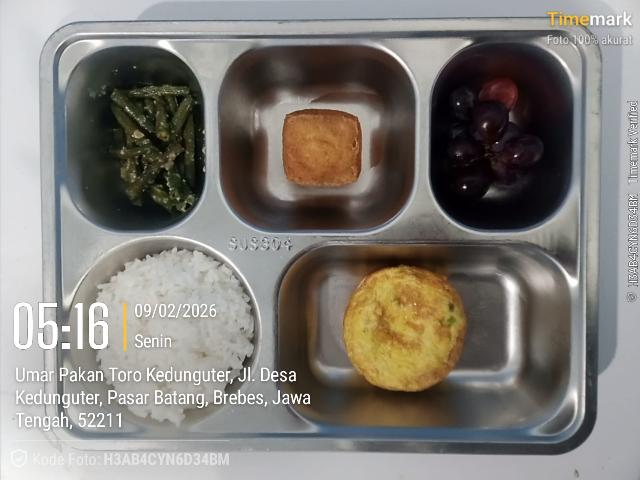buah: (434, 87, 548, 204)
nasi: (95, 248, 254, 426)
sayur: (110, 84, 205, 214)
tahu: (282, 109, 362, 186)
telur: (343, 265, 466, 391)
